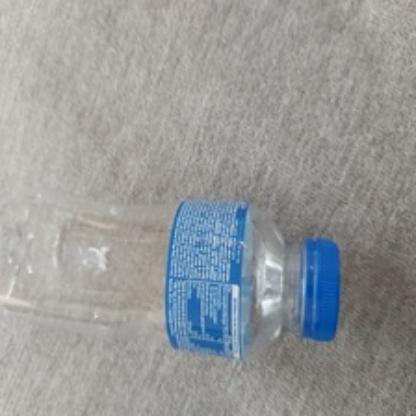Plastic Bottle: (2, 152, 356, 374)
